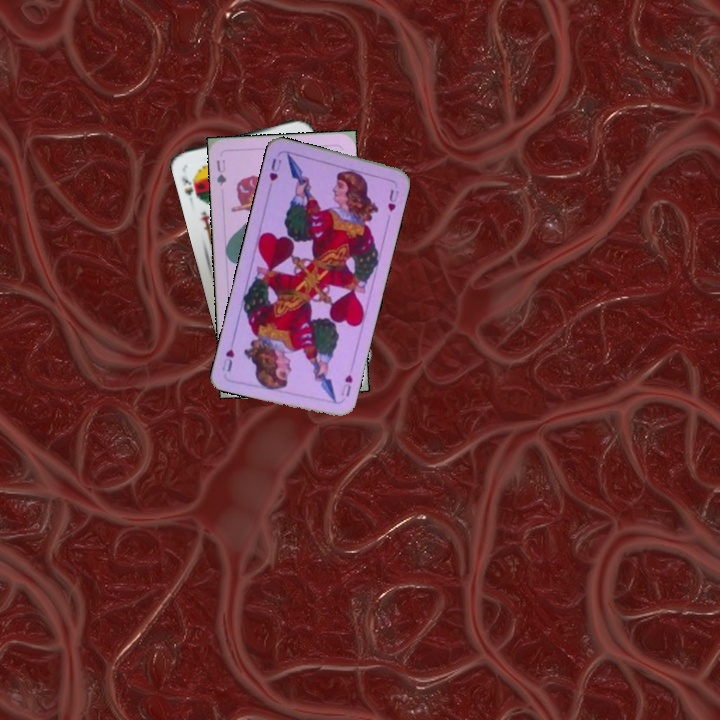GU: (212, 156, 229, 189)
HU: (265, 154, 284, 183), (337, 370, 355, 399)
SK: (178, 171, 202, 201)
